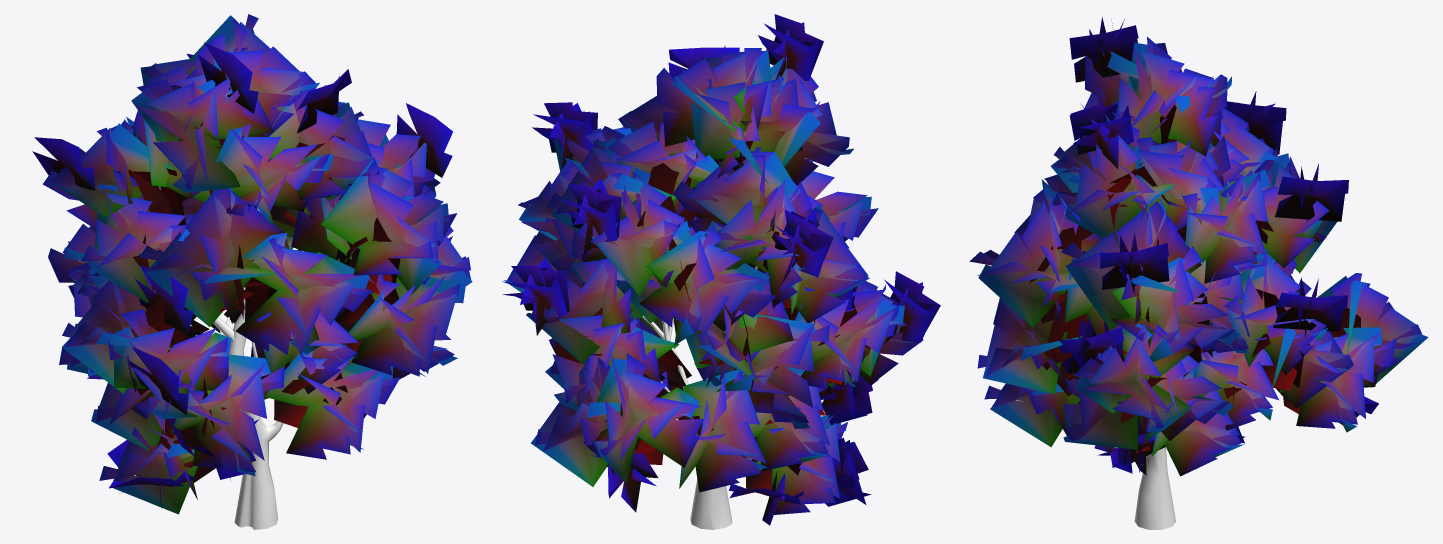
File: scragglytest.dae
The picture shows the model from 3 angles, left to right: view 1: azimuth 30°, elevation 25°; view 2: azimuth 150°, elevation 25°; view 3: azimuth 270°, elevation 25°; orthographic projection. The views are drawn at different scales.
Parts seen in each view (by area): view 1: Circle_008; view 2: Circle_008; view 3: Circle_008.
Boxes of the visible parts, x1,y1,x2,y2 form: Circle_008: (32, 14, 472, 529); Circle_008: (502, 14, 940, 529); Circle_008: (969, 17, 1428, 529).
Size of the model in its own units: 7.75 by 8.34 by 9.55.
